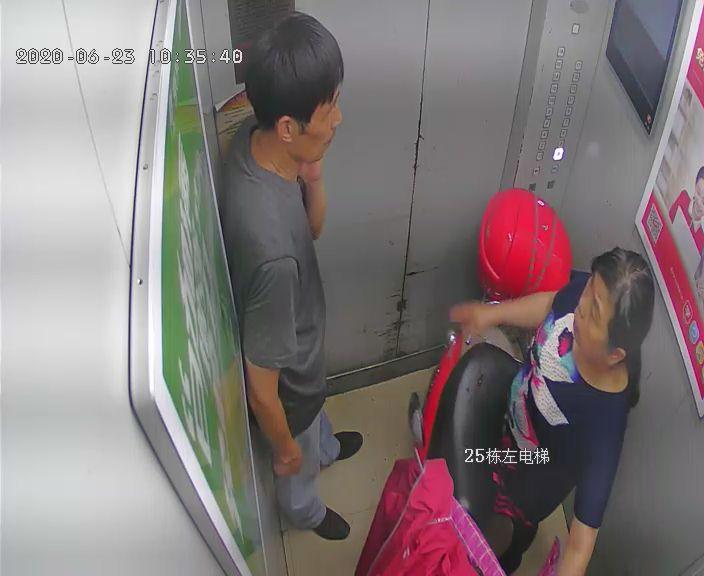Electric-bicycle: (385, 187, 565, 572)
